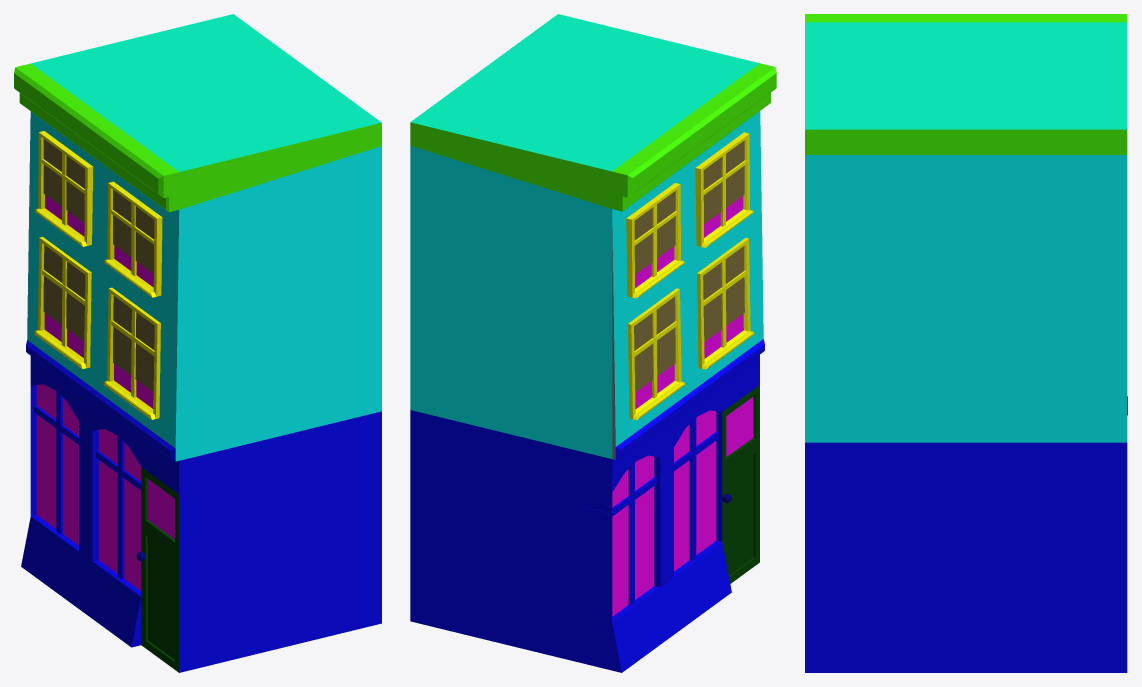
File: huis10_model.obj
3 renders of one model, left to right at view 1: azimuth 30°, elevation 25°; view 2: azimuth 150°, elevation 25°; view 3: azimuth 270°, elevation 25°, orthographic. The views are drawn at different scales.
Parts seen in each view (by area): view 1: polySurface235; view 2: polySurface235; view 3: polySurface235.
Boxes of the visible parts, left/top/right/bottom form: polySurface235: left=14, top=14, right=381, bottom=672; polySurface235: left=410, top=14, right=776, bottom=672; polySurface235: left=805, top=14, right=1127, bottom=672.
Bounding box in the file's own units: 7.63 × 16.49 × 8.88.
